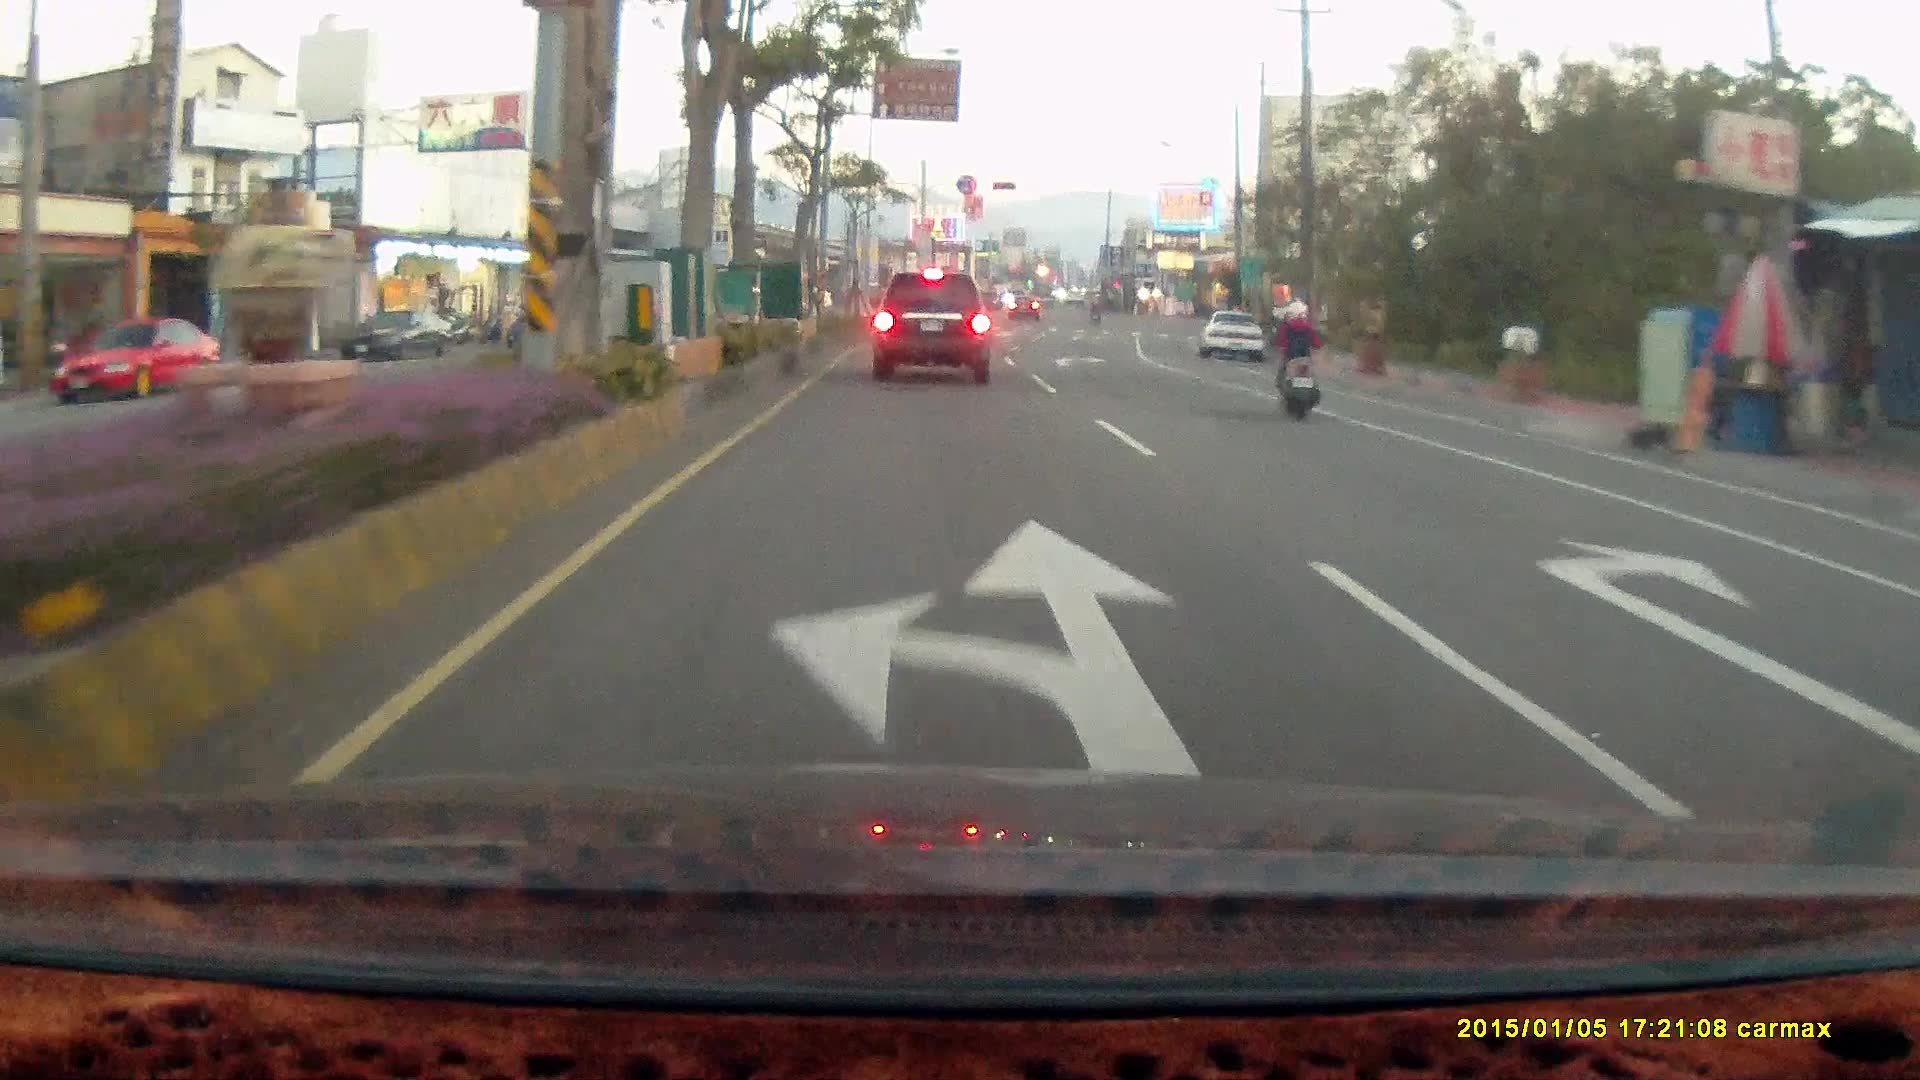rider: (1268, 296, 1323, 423)
vehicle: (48, 315, 221, 406), (872, 268, 989, 384), (1896, 493, 1920, 836), (1883, 528, 1920, 690), (347, 306, 457, 359), (1199, 311, 1267, 364), (1199, 308, 1267, 361)
